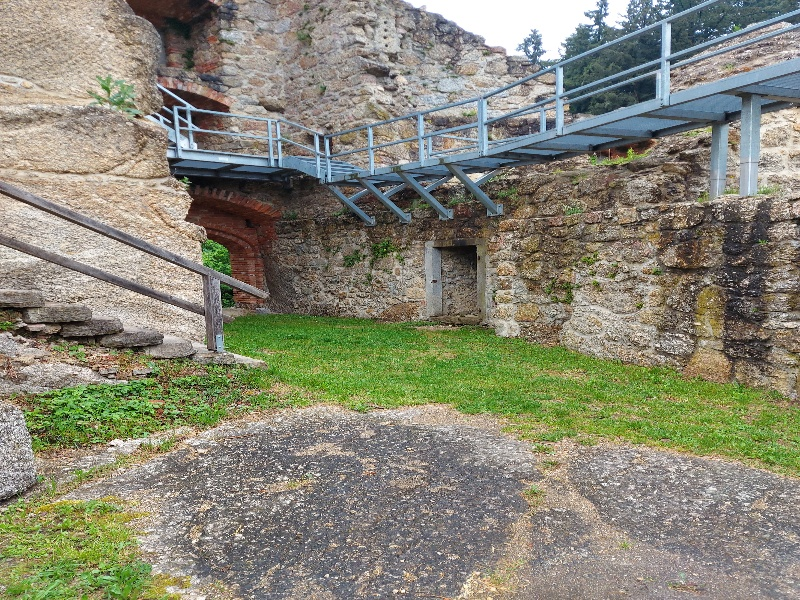door1: (412, 231, 496, 329)
